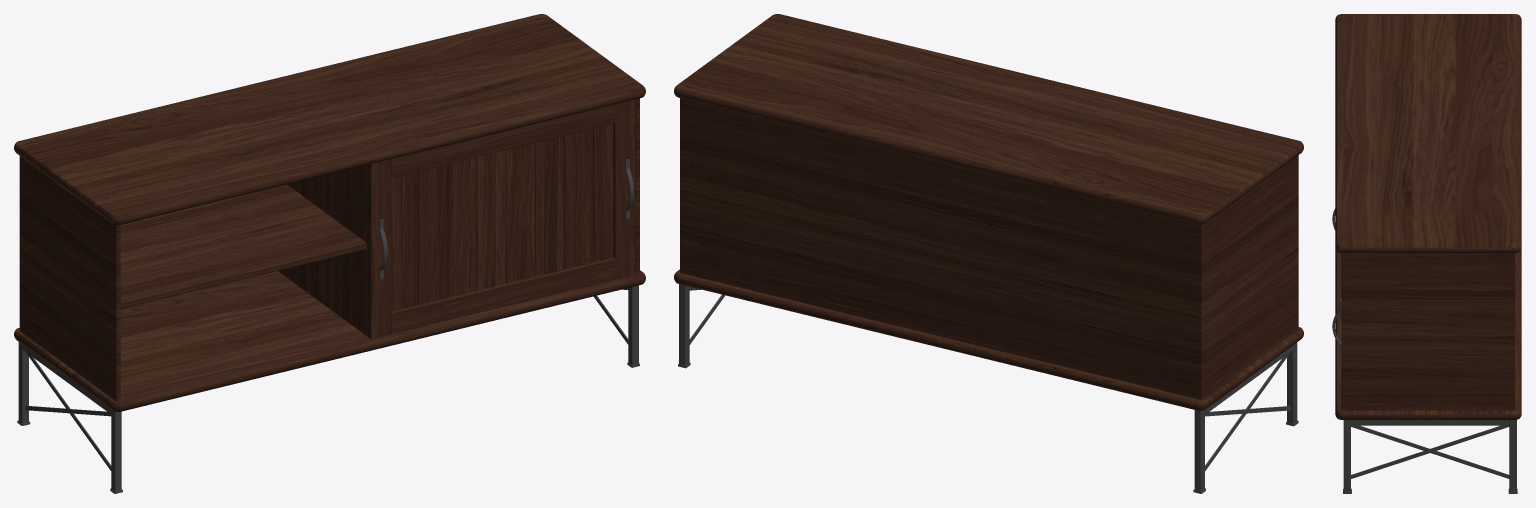
File: TOCKARP_TV_Stand.obj
3 views of the same model, side by side, from view 1: azimuth 30°, elevation 25°; view 2: azimuth 150°, elevation 25°; view 3: azimuth 270°, elevation 25° (orthographic). The views are drawn at different scales.
Visible parts, largest first — view 1: Generic_Models, Rectangle001, Rectangle002, 002, 1; view 2: Generic_Models, Rectangle001, Rectangle002; view 3: Rectangle001, Generic_Models, Rectangle002.
Part boxes in pixels (x1,y1,x2,y2): Generic_Models: (17,98,639,493); Rectangle001: (14,14,645,225); Rectangle002: (14,270,645,411); 002: (278,159,391,339); 1: (613,99,635,279); Generic_Models: (678,98,1298,493); Rectangle001: (674,14,1303,224); Rectangle002: (674,269,1303,410); Rectangle001: (1335,14,1521,252); Generic_Models: (1341,253,1517,493); Rectangle002: (1335,248,1521,419).
Size of the model in its own units: 1140 by 571 by 392.
